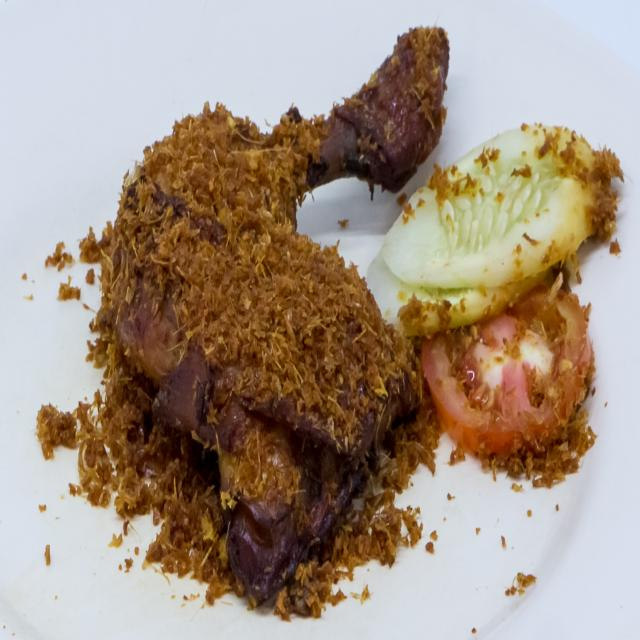Ayam-Goreng-Lengkuas: (89, 14, 460, 617)
